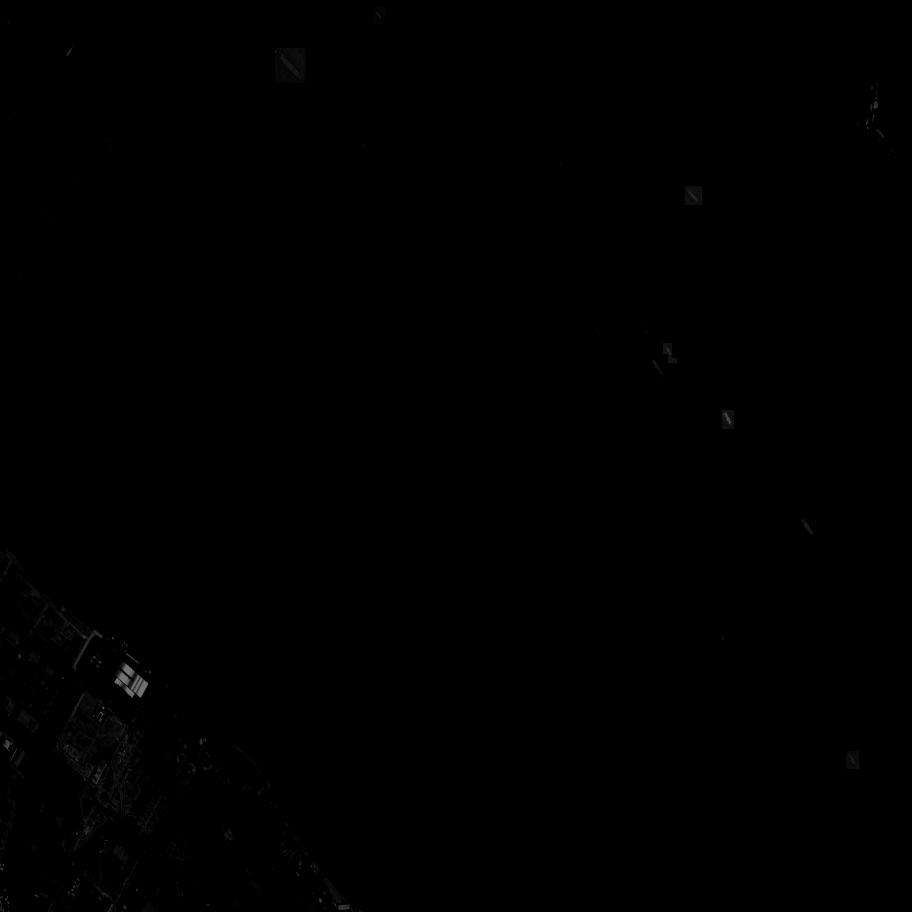ship: (275, 48, 308, 85), (772, 432, 800, 472), (356, 137, 391, 167), (862, 616, 890, 643), (420, 23, 449, 49), (795, 513, 818, 537), (448, 126, 473, 146), (722, 346, 744, 368), (585, 257, 605, 281), (650, 355, 669, 380), (714, 359, 736, 380), (87, 336, 104, 363), (684, 186, 704, 205), (672, 338, 689, 358), (663, 343, 679, 364), (879, 275, 894, 297), (731, 338, 746, 359), (846, 751, 862, 770), (778, 746, 789, 773), (722, 410, 736, 430), (372, 8, 388, 25), (546, 154, 564, 169), (645, 318, 661, 334), (737, 266, 757, 278), (798, 431, 813, 447), (593, 323, 607, 340), (515, 234, 528, 251), (640, 323, 651, 341), (661, 248, 675, 262), (503, 405, 513, 422), (509, 524, 518, 538), (121, 640, 132, 651), (109, 636, 121, 646), (118, 646, 131, 653), (721, 632, 726, 647)
